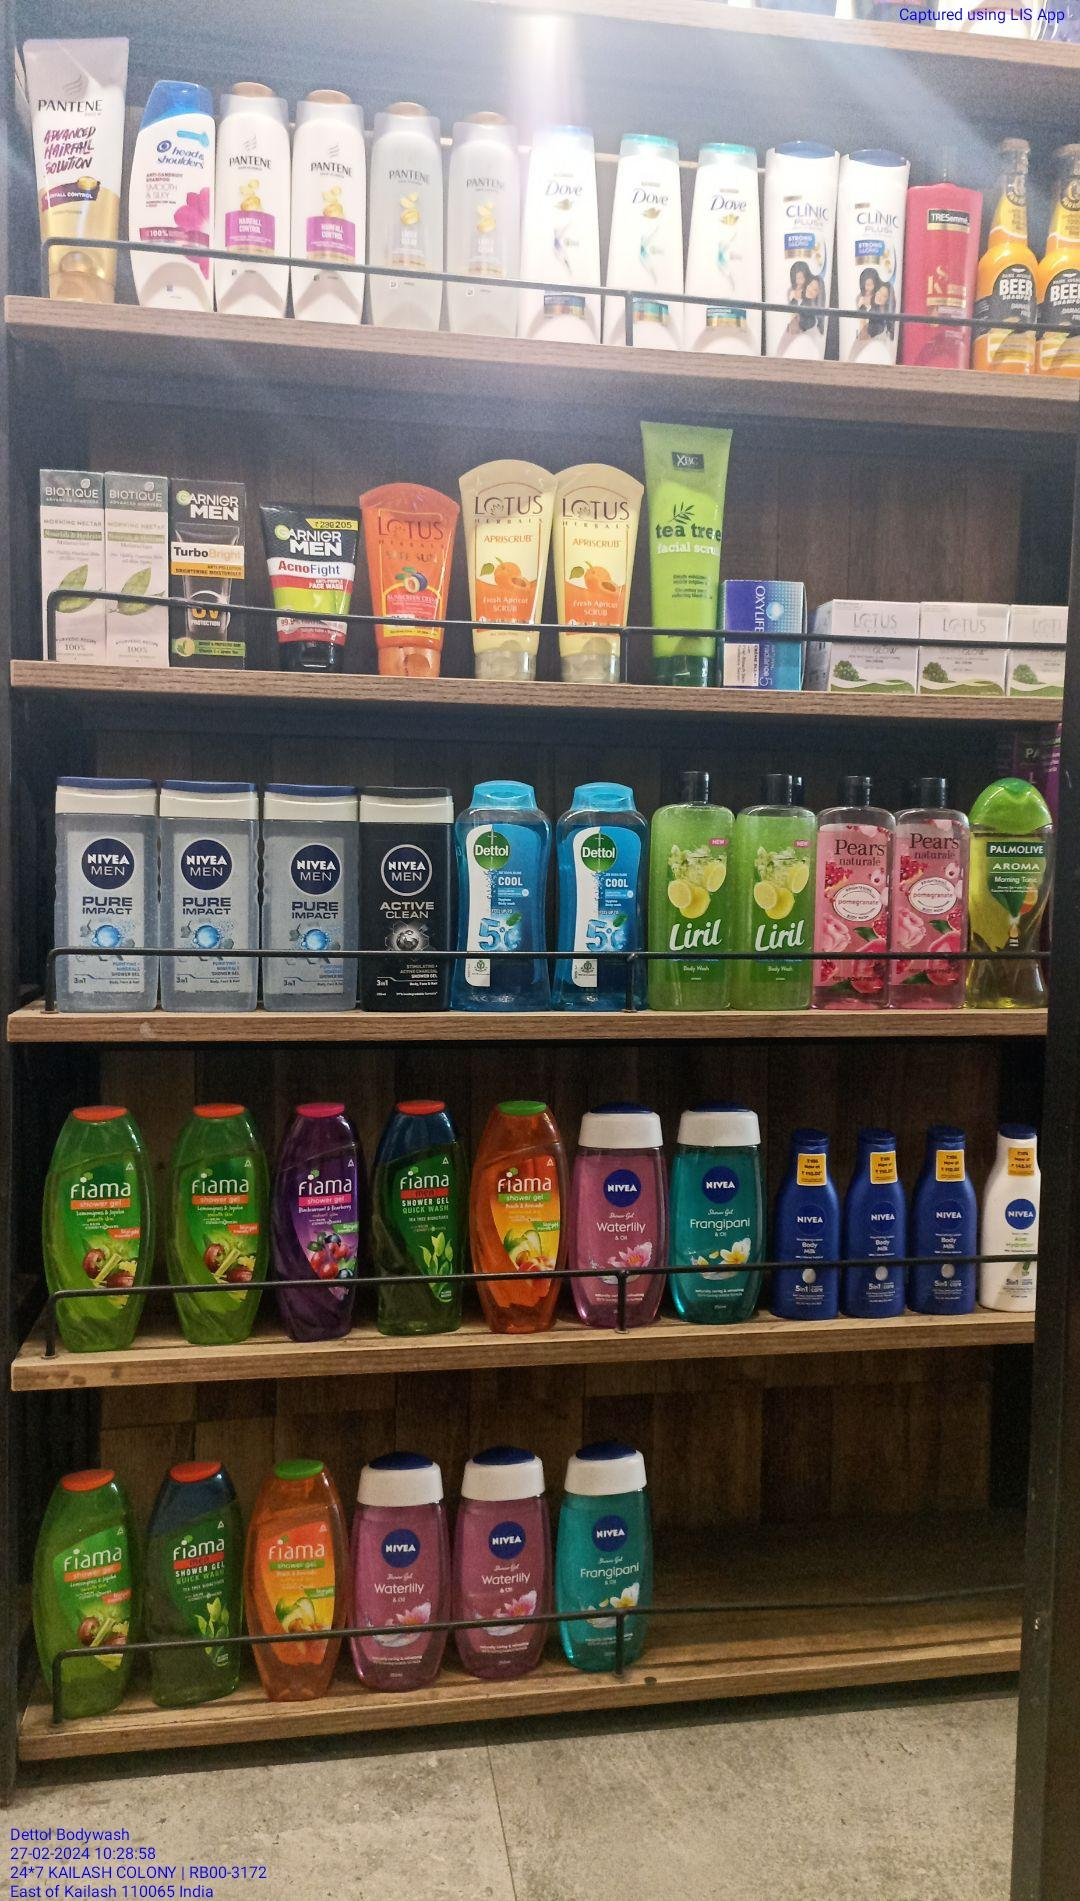Dettol_Bodywash_Cool: (456, 781, 552, 1016), (562, 778, 641, 1016)
Fiama_Shower_Gel_Lemongrass_and_Jojoba_250ML: (46, 1465, 140, 1717), (52, 1107, 148, 1351), (172, 1103, 266, 1350)
Fiama_Shower_Gel_Peach_and_Avocado_250ML: (253, 1451, 336, 1701), (483, 1099, 567, 1336)
Liril_Lime_and_Tea_Tree_Oil_Body_Wash_250ML: (654, 764, 737, 1012), (747, 770, 819, 1016)
Nivea_Shower_Gel_Frangipani_and_Oil_250ML: (673, 1099, 764, 1321), (567, 1447, 653, 1674)
Nivea_Shower_Gel_Waterlily_and_Oil_250ML: (350, 1456, 447, 1695), (466, 1445, 554, 1680), (575, 1105, 662, 1324)
Palmolive_Aroma_Morning_Tonic_Shower_Gel_250ML: (972, 776, 1051, 1014)
